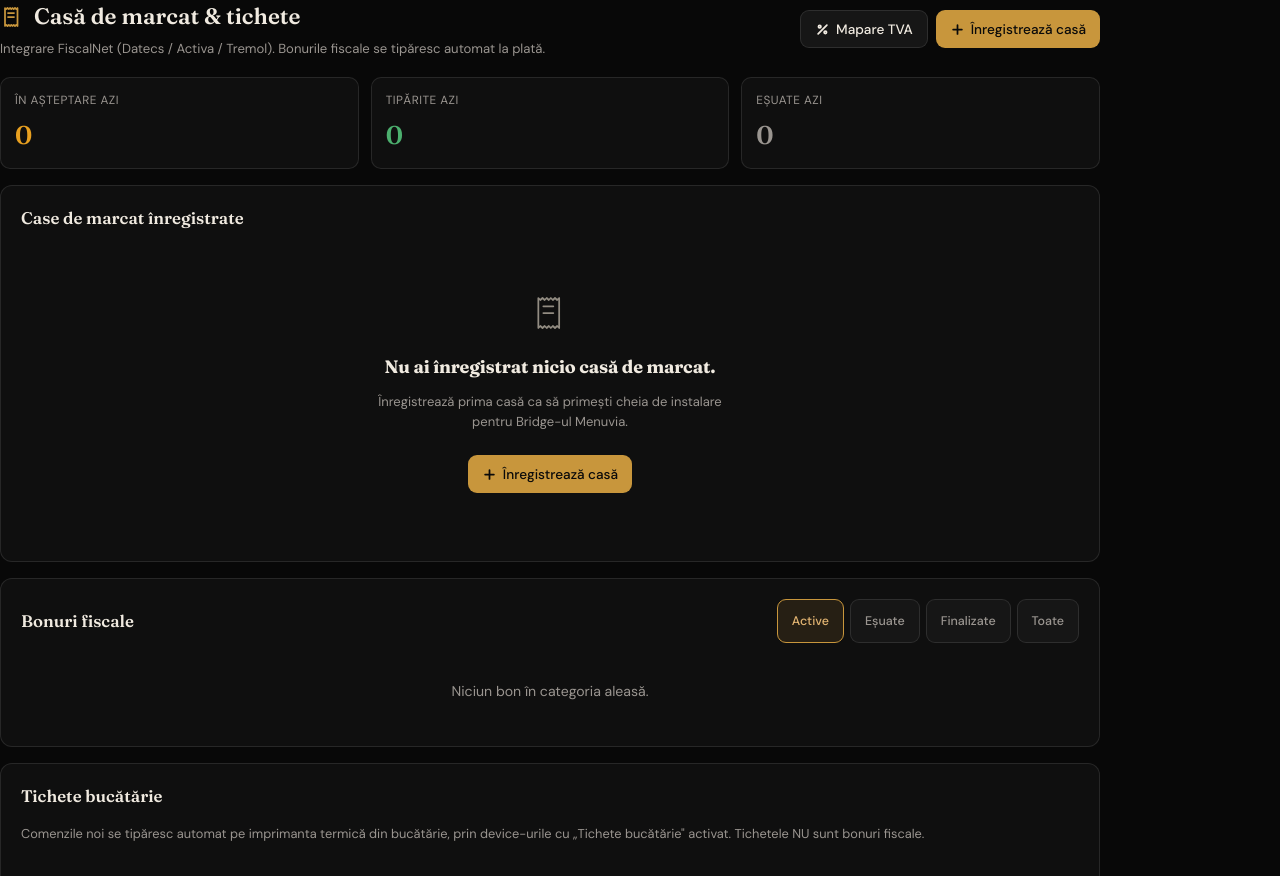
BridgeTab — „Bonul a ieșit” (mig 277) › doar bonul cu marker ambiguu are butonul; înregistrarea cheamă force_resolve cu numărul, fără retry
The image size is (1280, 876).
Click the button "Eșuate": point(885, 621) [850, 599, 920, 643]
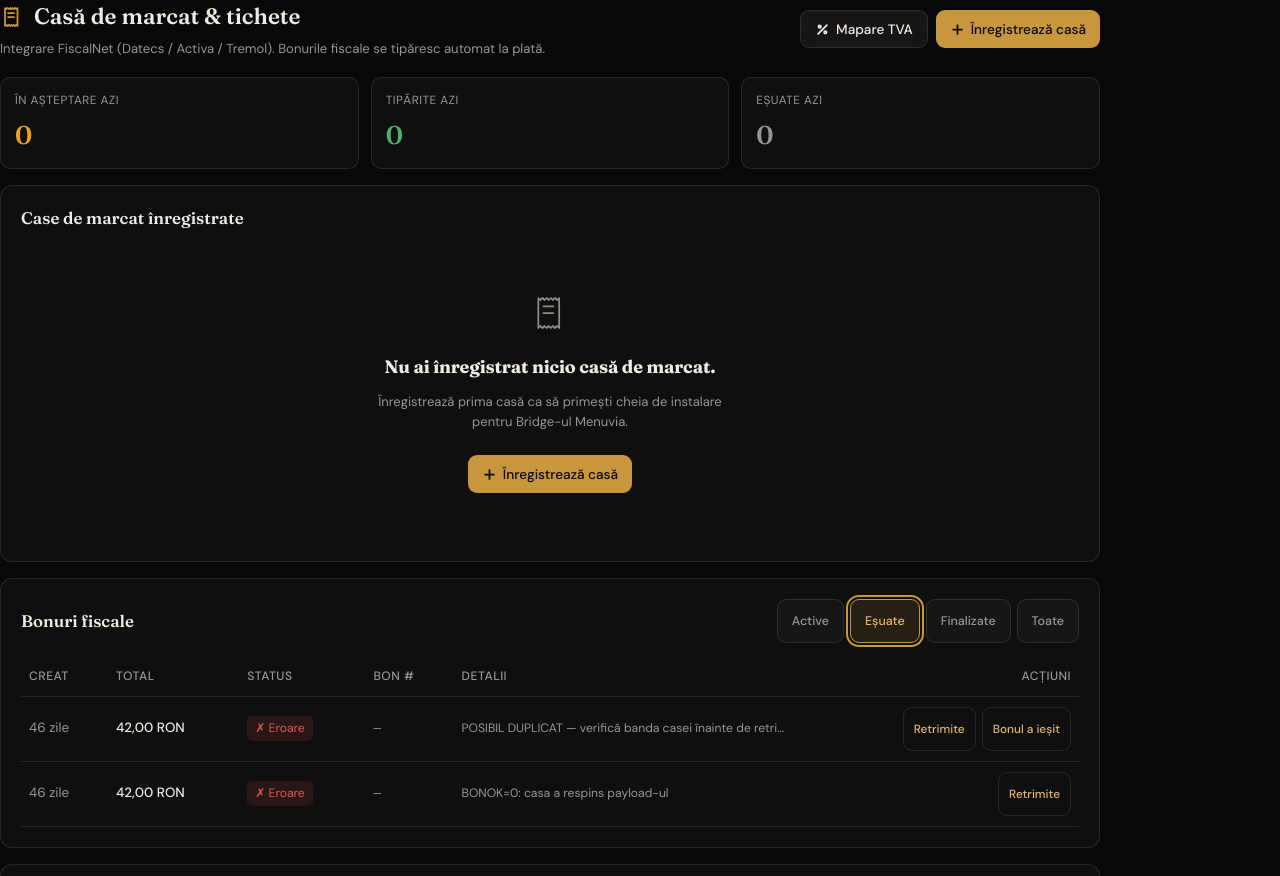
Expected: the number of buttons "Retrimite" is 2, [903, 707, 976, 751]; [998, 772, 1071, 816]
Expected: the number of buttons "Bonul a ieșit" is 1
Click the button "Bonul a ieșit": point(1026, 729) [982, 707, 1071, 751]
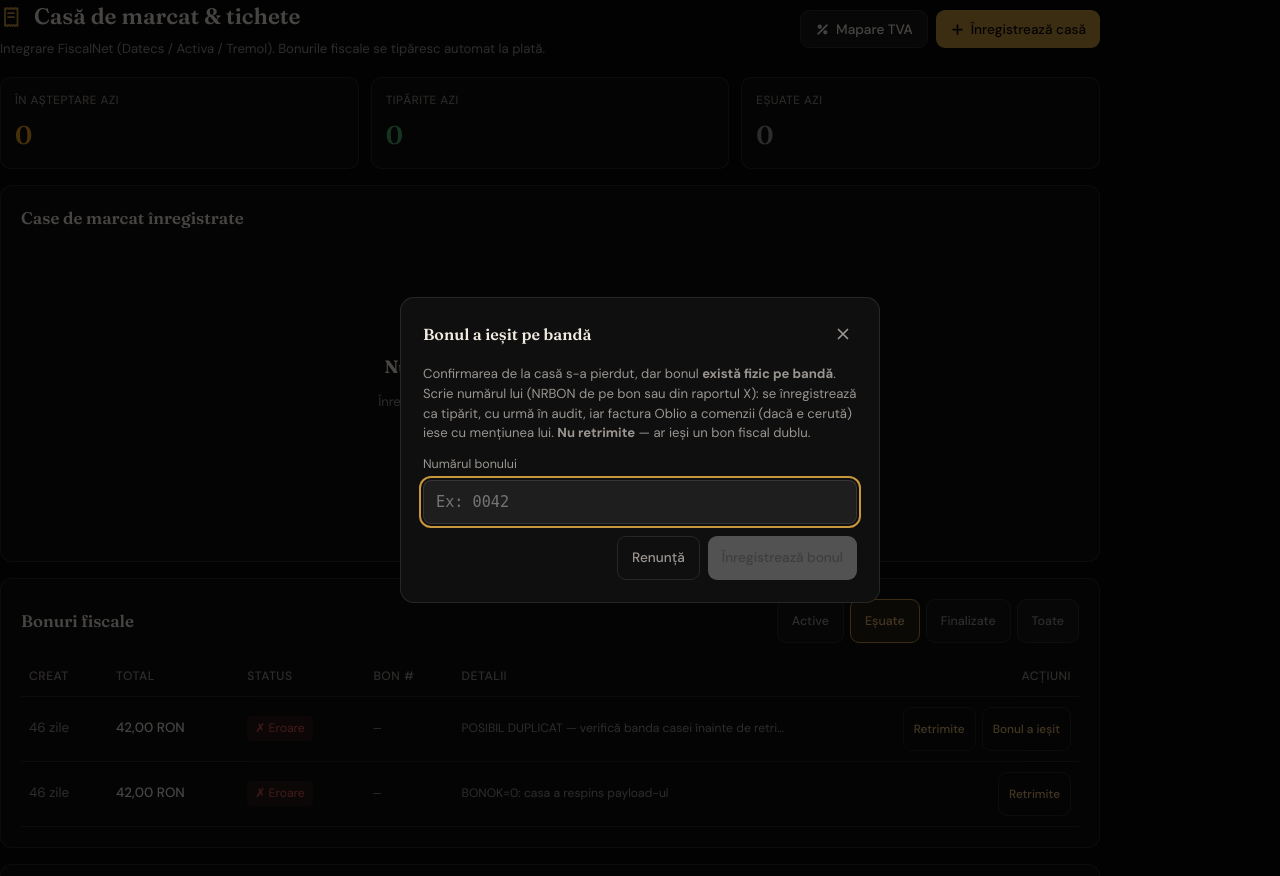
Expected: the heading "Bonul a ieșit pe bandă" is shown, [423, 322, 591, 346]
Expected: the button "Înregistrează bonul" is disabled, [708, 536, 857, 580]
In the field labelled "Numărul bonului": point(640, 502) [423, 480, 857, 524], type " 0042 "
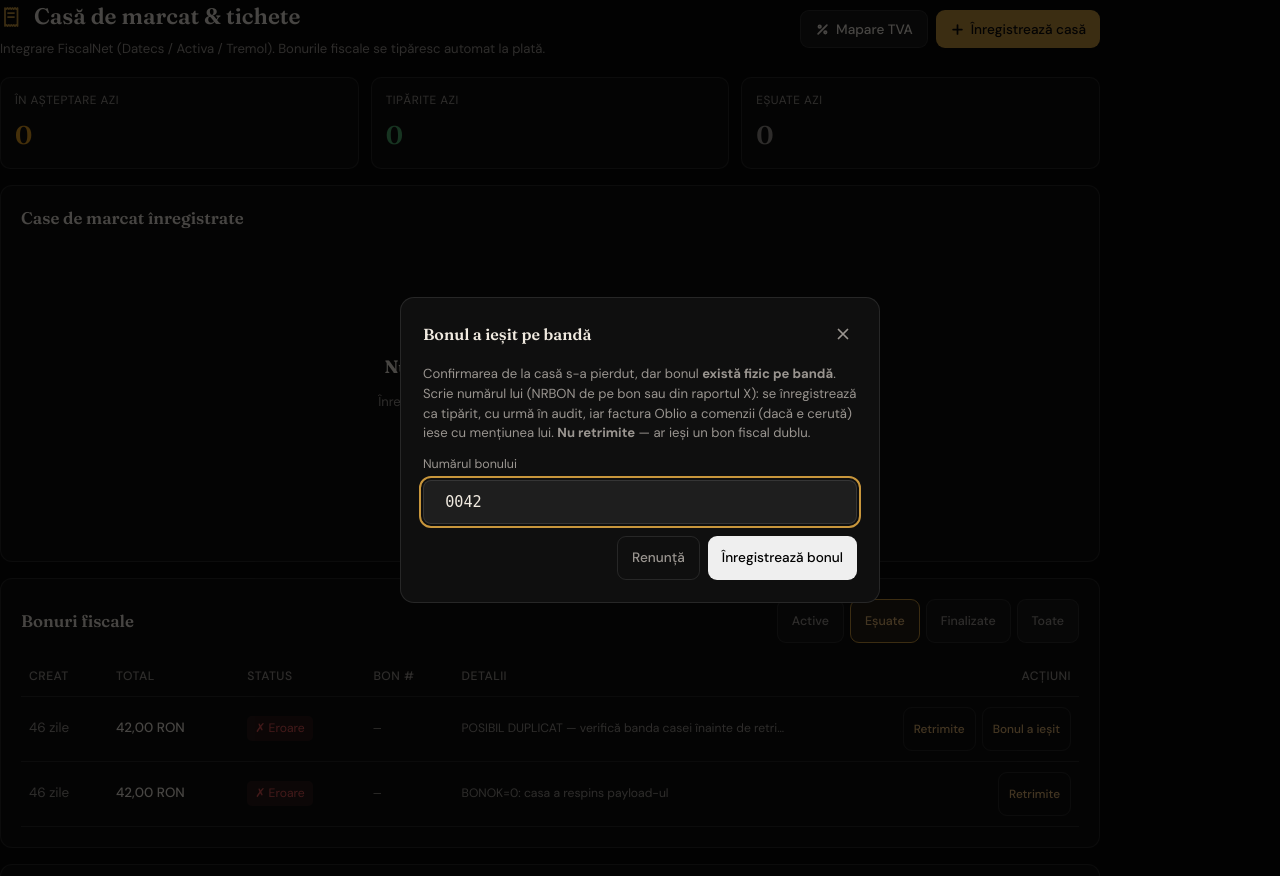
Expected: the button "Înregistrează bonul" is enabled
Click the button "Înregistrează bonul": point(782, 558) [708, 536, 857, 580]
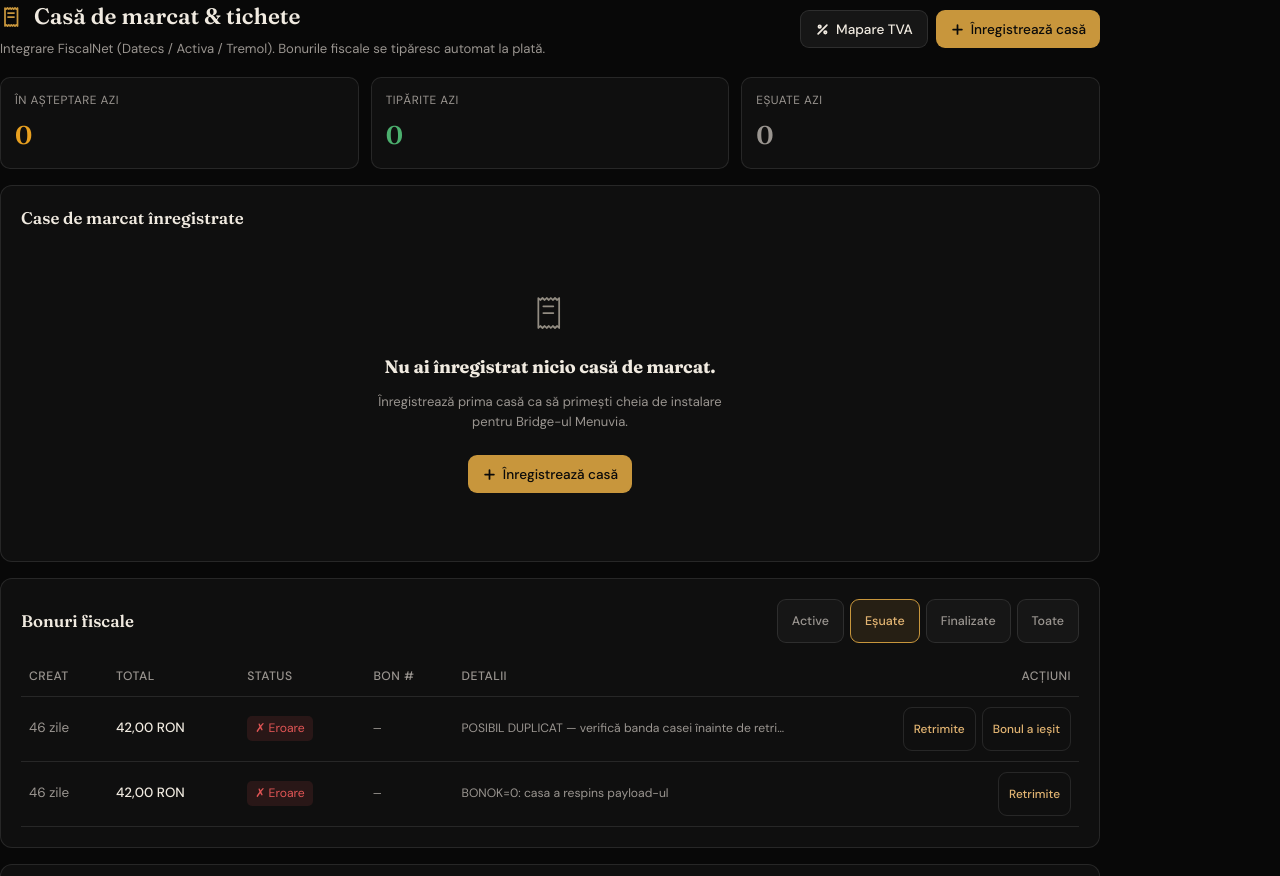
Expected: the heading "Bonul a ieșit pe bandă" is gone
